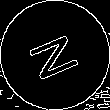N_NE: (24, 27, 86, 83)
